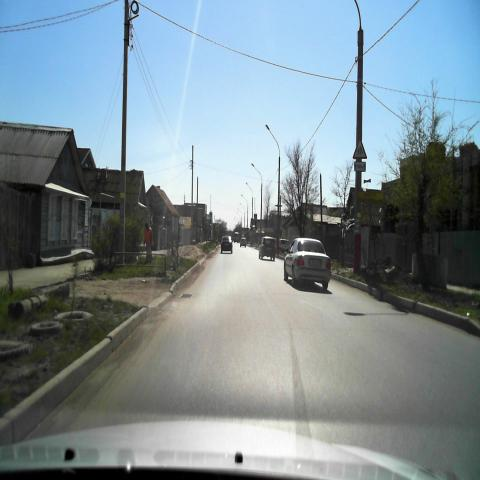1_23: (353, 139, 367, 159)
